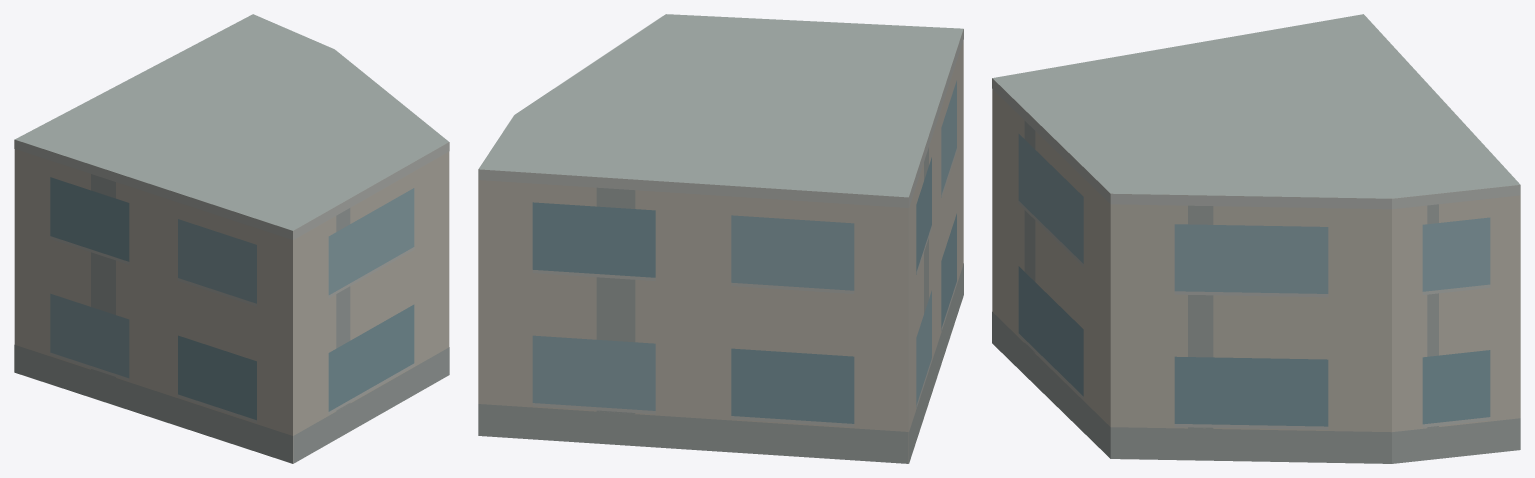
File: residential-6168e2a2-6d61-487d-8e47-15fd7d6a91df.glb
The picture shows the model from 3 angles, left to right: view 1: azimuth 30°, elevation 25°; view 2: azimuth 150°, elevation 25°; view 3: azimuth 270°, elevation 25°; orthographic projection. The views are drawn at different scales.
Parts seen in each view (by area): view 1: residential-6168e2a2-6d61-487d-8e47-15fd7d6a91df.tmp; view 2: residential-6168e2a2-6d61-487d-8e47-15fd7d6a91df.tmp; view 3: residential-6168e2a2-6d61-487d-8e47-15fd7d6a91df.tmp.
Boxes of the visible parts, x1,y1,x2,y2 form: residential-6168e2a2-6d61-487d-8e47-15fd7d6a91df.tmp: (14, 14, 449, 463); residential-6168e2a2-6d61-487d-8e47-15fd7d6a91df.tmp: (478, 14, 963, 463); residential-6168e2a2-6d61-487d-8e47-15fd7d6a91df.tmp: (992, 14, 1520, 463).
Bounding box in the file's own units: 9.13 × 6.1 × 11.03.
